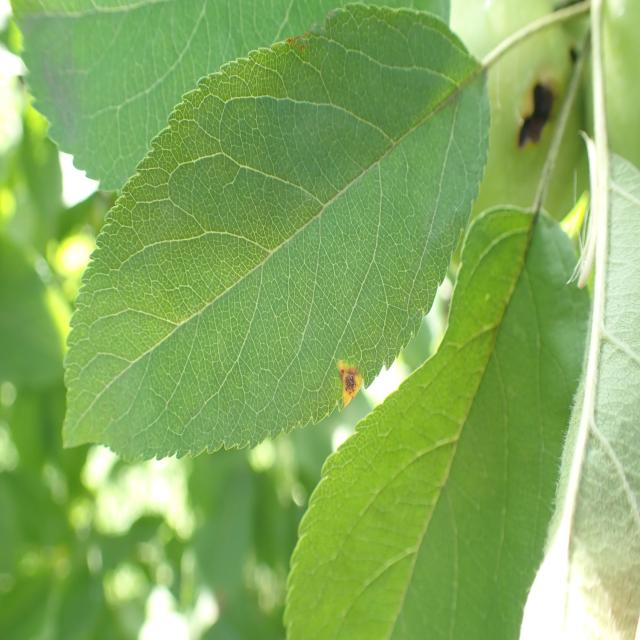Rust: (330, 350, 366, 411)
